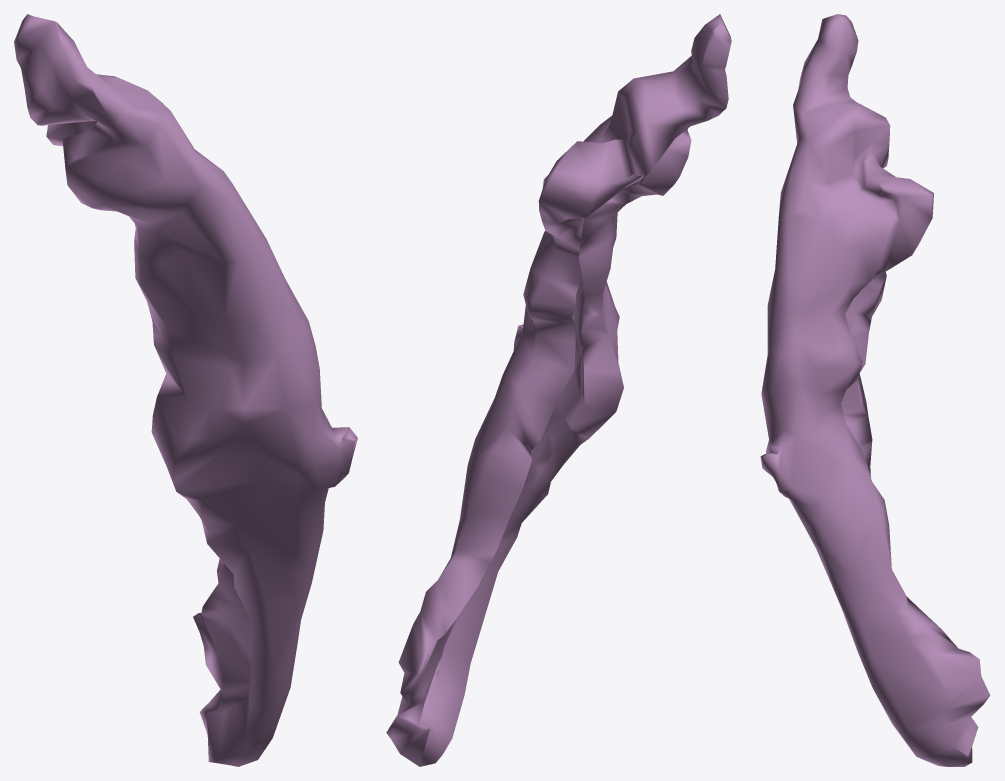
The picture shows the model from 3 angles, left to right: view 1: azimuth 30°, elevation 25°; view 2: azimuth 150°, elevation 25°; view 3: azimuth 270°, elevation 25°; orthographic projection. The views are drawn at different scales.
Visible parts, largest first — view 1: 左侧侧副沟; view 2: 左侧侧副沟; view 3: 左侧侧副沟.
Boxes of the visible parts, box(x1,y1,x2,y2) form: 左侧侧副沟: box(14, 14, 357, 766); 左侧侧副沟: box(386, 14, 731, 766); 左侧侧副沟: box(760, 14, 990, 766).
Bounding box in the file's own units: 0.0468 × 0.1223 × 0.0389.
